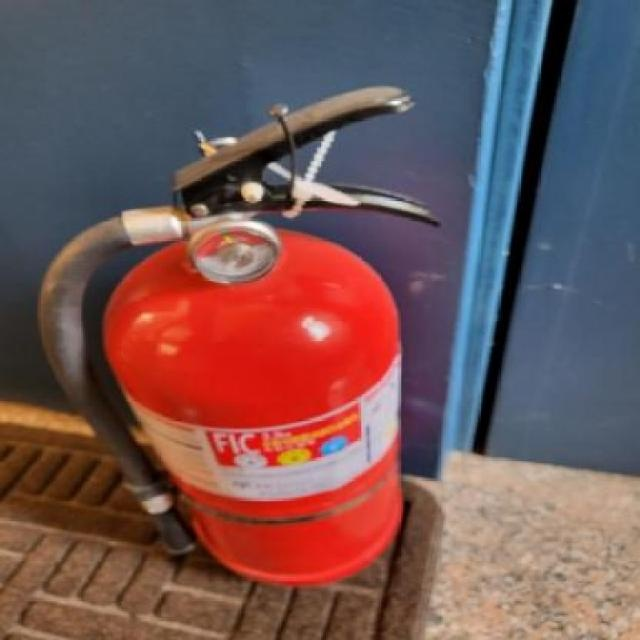fire extinguisher: (35, 86, 443, 589)
